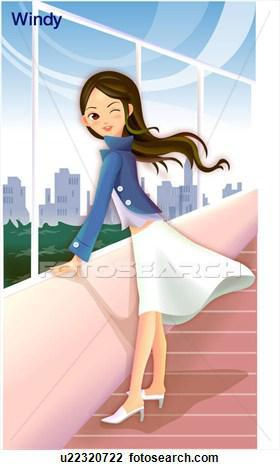person: (51, 60, 181, 429)
